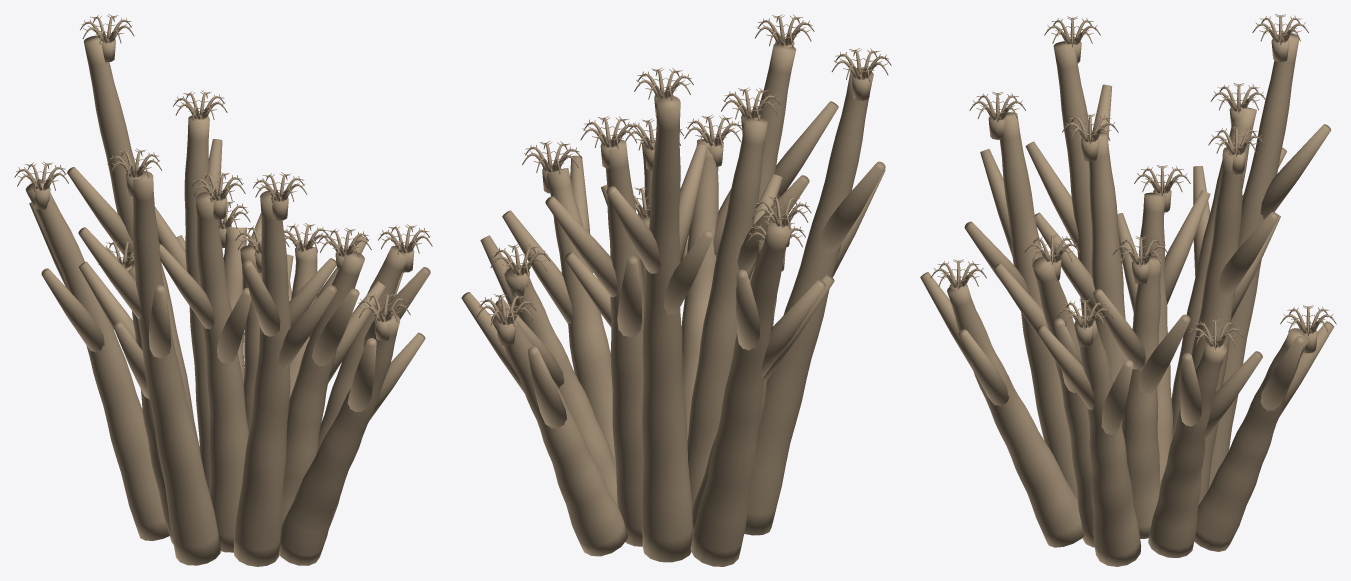
File: sinularia-desktop.glb
3 renders of one model, left to right at view 1: azimuth 30°, elevation 25°; view 2: azimuth 150°, elevation 25°; view 3: azimuth 270°, elevation 25°, orthographic. The views are drawn at different scales.
Visible parts, largest first — view 1: branch, lateral-branch, octocoral-tentacle, polyp-column, pinnule; view 2: branch, lateral-branch, octocoral-tentacle, pinnule, polyp-column; view 3: branch, lateral-branch, octocoral-tentacle, polyp-column, pinnule.
Part boxes in pixels (x1=…): branch: x1=25, y1=35, x2=409, y2=566; lateral-branch: x1=29, y1=139, x2=430, y2=420; octocoral-tentacle: x1=14, y1=16, x2=432, y2=323; polyp-column: x1=32, y1=38, x2=414, y2=340; pinnule: x1=16, y1=14, x2=430, y2=314; branch: x1=491, y1=43, x2=873, y2=566; lateral-branch: x1=461, y1=101, x2=885, y2=428; octocoral-tentacle: x1=476, y1=16, x2=891, y2=326; pinnule: x1=478, y1=14, x2=889, y2=316; polyp-column: x1=496, y1=40, x2=871, y2=345; branch: x1=947, y1=32, x2=1309, y2=566; lateral-branch: x1=920, y1=84, x2=1334, y2=439; octocoral-tentacle: x1=930, y1=15, x2=1336, y2=349; polyp-column: x1=949, y1=38, x2=1317, y2=364; pinnule: x1=934, y1=14, x2=1333, y2=340.
Bounding box in the file's own units: 0.4752 × 0.6392 × 0.5048.
